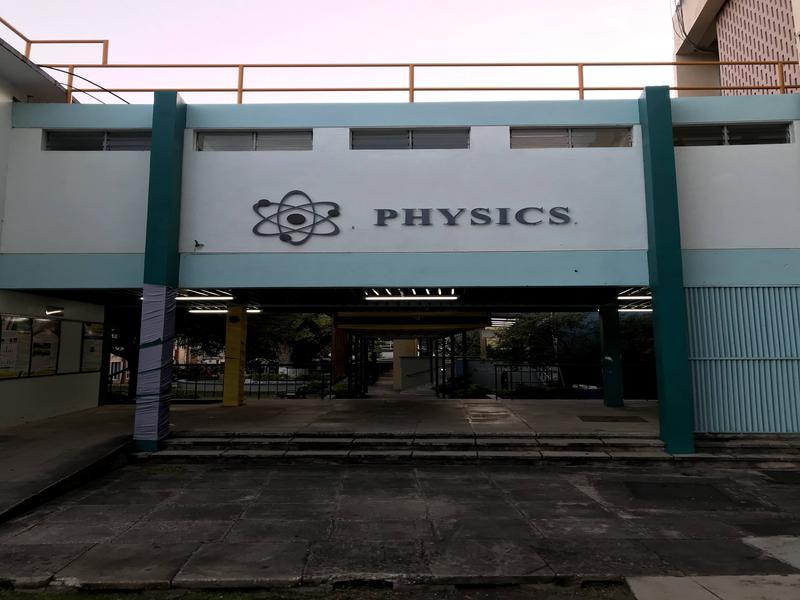18.0053657_-76.7491452_physicssign: (243, 186, 597, 255)
